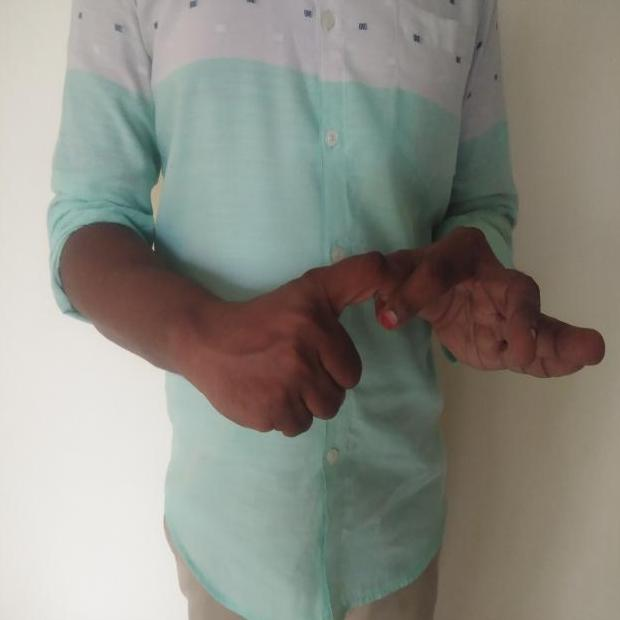P: (188, 211, 610, 451)
